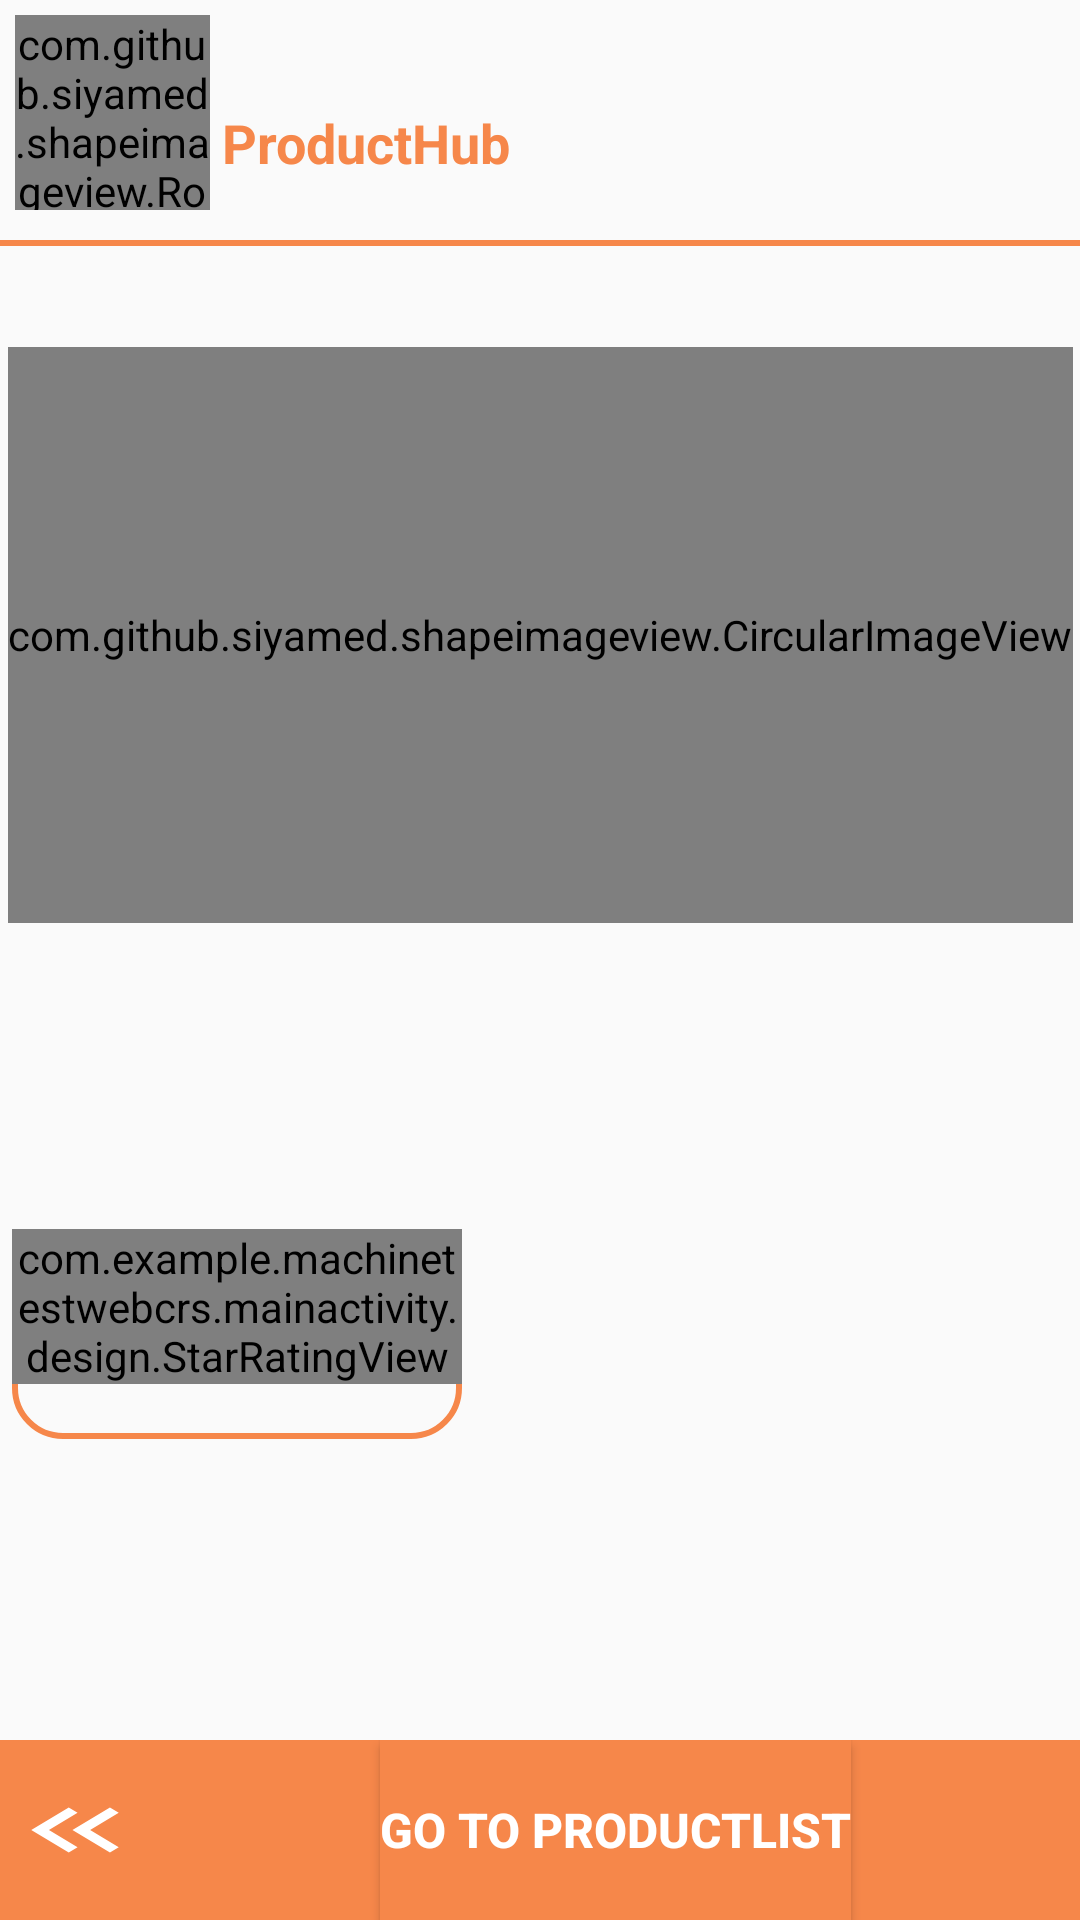

Icons on this 1080*1920 Android screen, each with the point to tap as [x,y]:
keyboard double arrow left: [75,1830]
